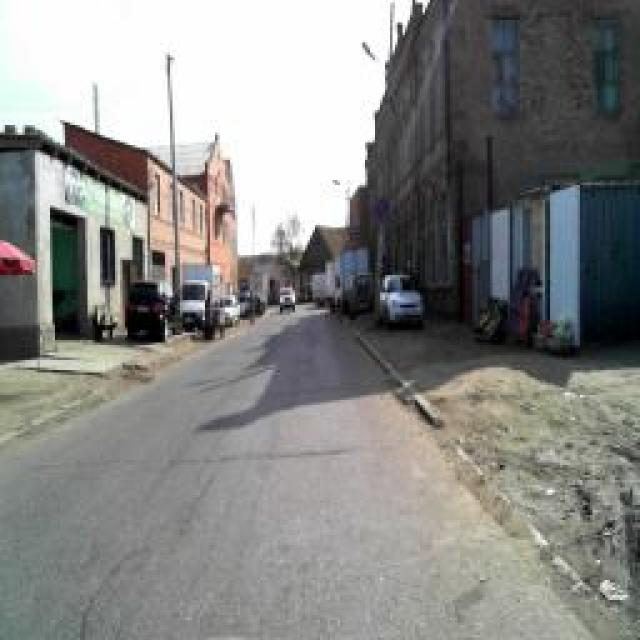sign: (376, 196, 389, 219)
